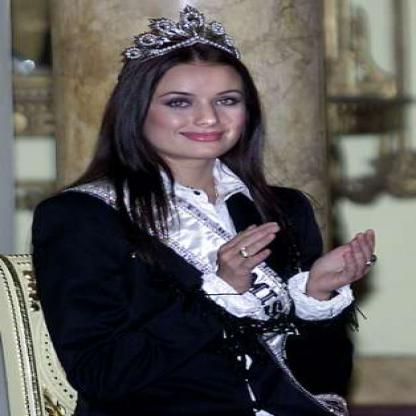face: (136, 36, 253, 161)
